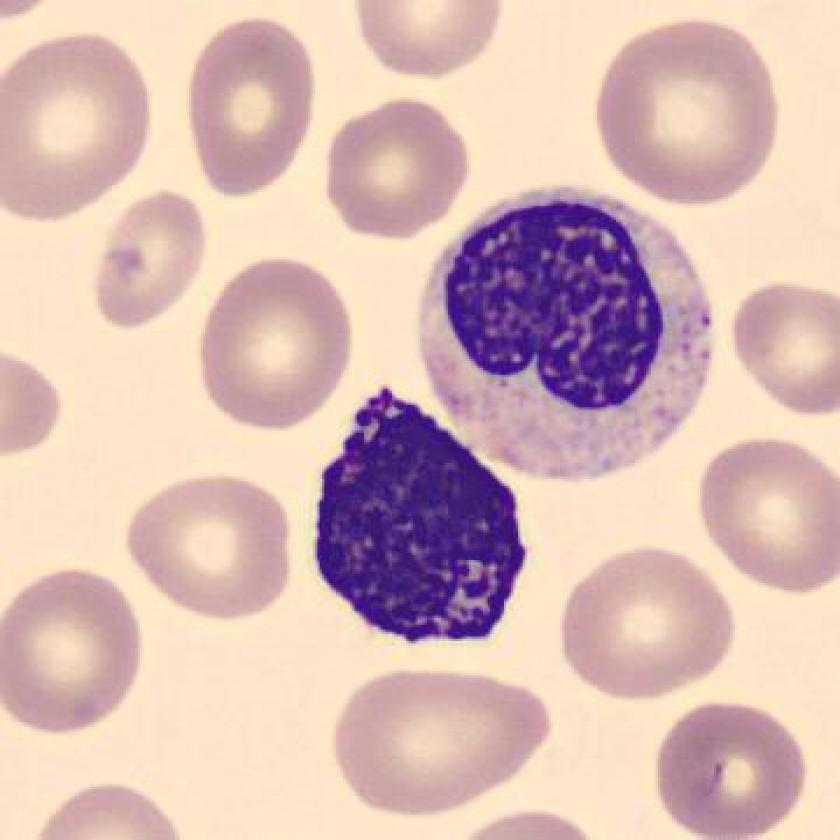basophil: (407, 184, 724, 482), (295, 369, 540, 656)
